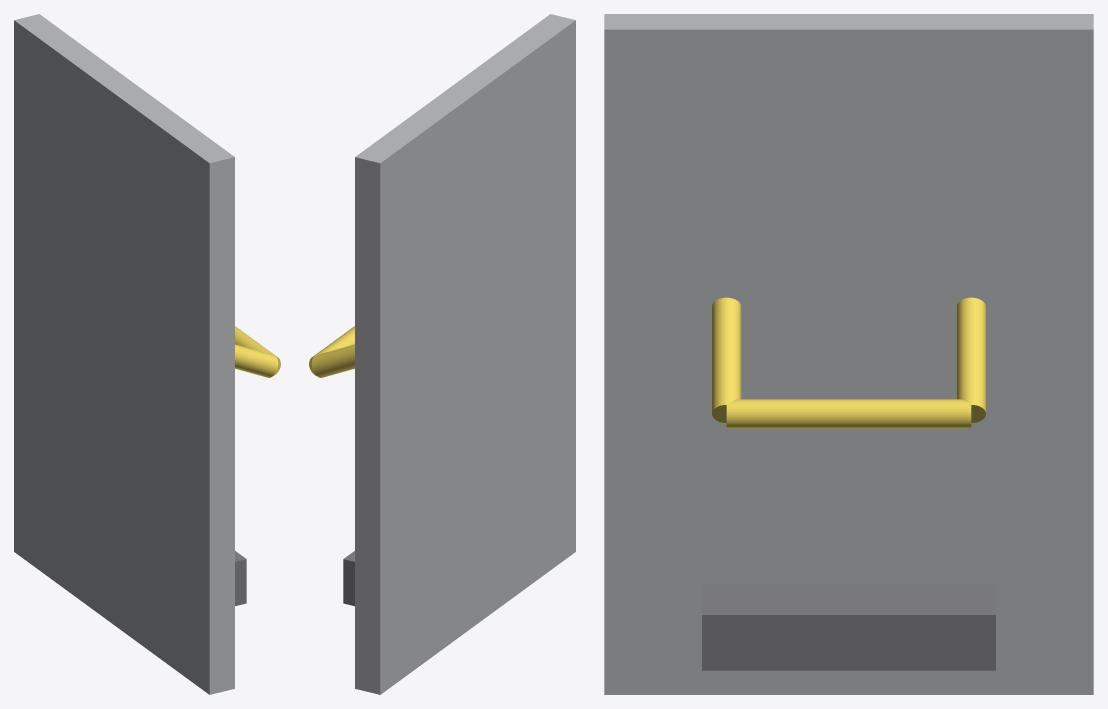
File: struct03_ladder_handrail_foot_restraint.glb
The picture shows the model from 3 angles, left to right: view 1: azimuth 30°, elevation 25°; view 2: azimuth 150°, elevation 25°; view 3: azimuth 270°, elevation 25°; orthographic projection. The views are drawn at different scales.
Visible parts, largest first — view 1: plate, toe_loops, heel_clips; view 2: plate, toe_loops, heel_clips; view 3: plate, heel_clips, toe_loops.
Boxes of the visible parts, x1,y1,x2,y2 form: plate: (14,14,234,694); toe_loops: (235,326,280,377); heel_clips: (235,551,246,606); plate: (355,14,575,694); toe_loops: (309,326,354,377); heel_clips: (343,551,354,606); plate: (604,14,1093,694); heel_clips: (702,584,995,670); toe_loops: (712,297,985,428).
Bounding box in the file's own units: 0.142 × 0.6 × 0.4.
